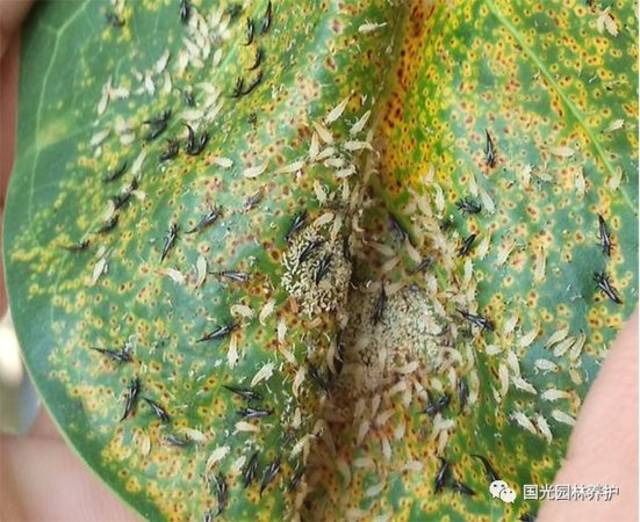Phlaeothripidae: (187, 202, 226, 234), (86, 342, 134, 367), (196, 319, 243, 344), (285, 458, 313, 499), (591, 269, 622, 305), (140, 107, 171, 143), (473, 453, 503, 490), (238, 445, 261, 493), (118, 376, 141, 423), (143, 391, 173, 427), (458, 307, 496, 335), (208, 474, 229, 521), (111, 179, 137, 216), (595, 212, 615, 257), (206, 266, 251, 286), (368, 277, 385, 329), (284, 206, 308, 242), (431, 452, 451, 495), (223, 383, 266, 402), (423, 386, 449, 417), (305, 356, 325, 395), (243, 67, 266, 100), (452, 232, 478, 260), (313, 246, 333, 282), (448, 472, 475, 497), (258, 1, 277, 36), (58, 235, 89, 256), (189, 128, 210, 159), (387, 211, 406, 245), (265, 452, 280, 494), (236, 405, 277, 420), (454, 376, 470, 414), (96, 214, 120, 238), (104, 159, 129, 181), (227, 71, 244, 102), (240, 16, 256, 48), (453, 200, 482, 216), (409, 254, 429, 277), (482, 130, 494, 168), (161, 225, 173, 263), (159, 433, 192, 445)
